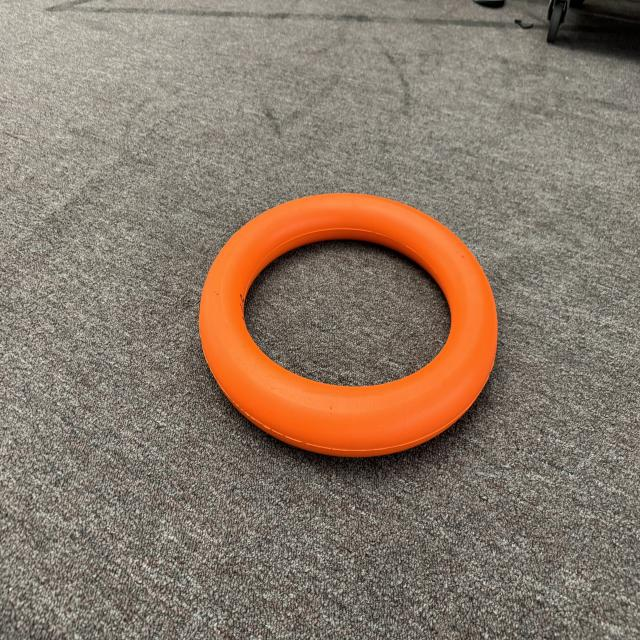note: (196, 184, 502, 474)
